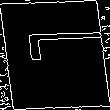L_E: (6, 38, 104, 72)
